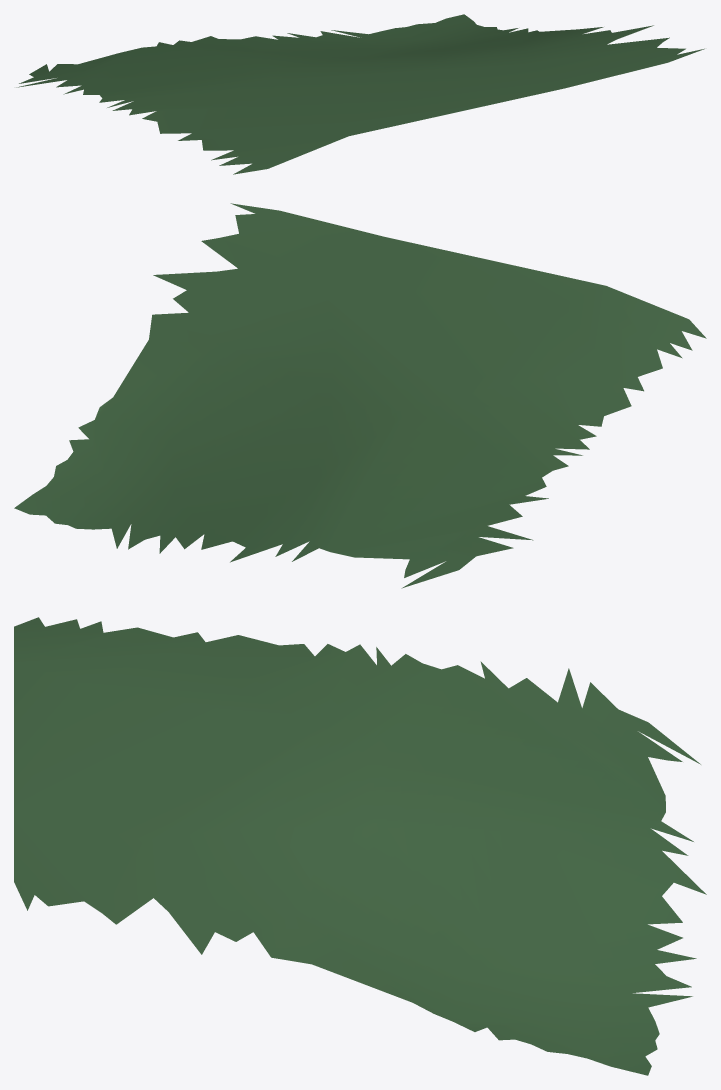
File: payo_land_x3_y10_lod2.glb
3 renders of one model, top to bottom at view 1: azimuth 30°, elevation 25°; view 2: azimuth 150°, elevation 25°; view 3: azimuth 270°, elevation 25°, orthographic. The views are drawn at different scales.
Parts seen in each view (by area): view 1: payo_land_x3_y10; view 2: payo_land_x3_y10; view 3: payo_land_x3_y10.
Part boxes in pixels (box(x1,y1,x2,y2)): payo_land_x3_y10: box(16, 14, 704, 174); payo_land_x3_y10: box(14, 203, 706, 588); payo_land_x3_y10: box(14, 617, 706, 1075).
Bounding box in the file's own units: 295 × 74.67 × 255.
